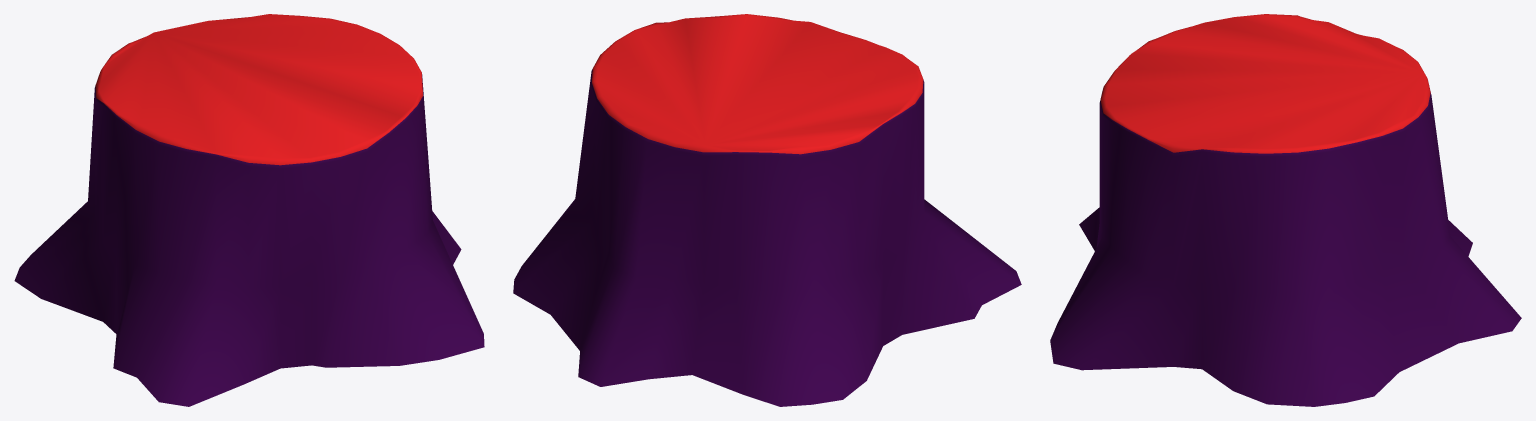
The model's file is CottageHouseFairy5STUMP.fbx.
3 renders of one model, left to right at view 1: azimuth 30°, elevation 25°; view 2: azimuth 150°, elevation 25°; view 3: azimuth 270°, elevation 25°, orthographic.
Visible parts, largest first — view 1: Circle.001; view 2: Circle.001; view 3: Circle.001.
Part boxes in pixels (left/top/right/bottom): Circle.001: left=14, top=14, right=484, bottom=406; Circle.001: left=513, top=14, right=1021, bottom=406; Circle.001: left=1050, top=14, right=1521, bottom=406.
Size of the model in its own units: 511 by 278 by 533.
